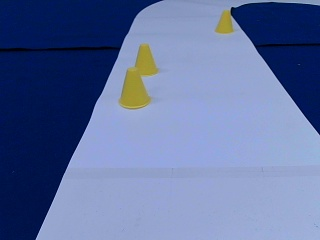cone: (119, 68, 151, 108), (134, 44, 158, 76), (214, 9, 233, 33)
